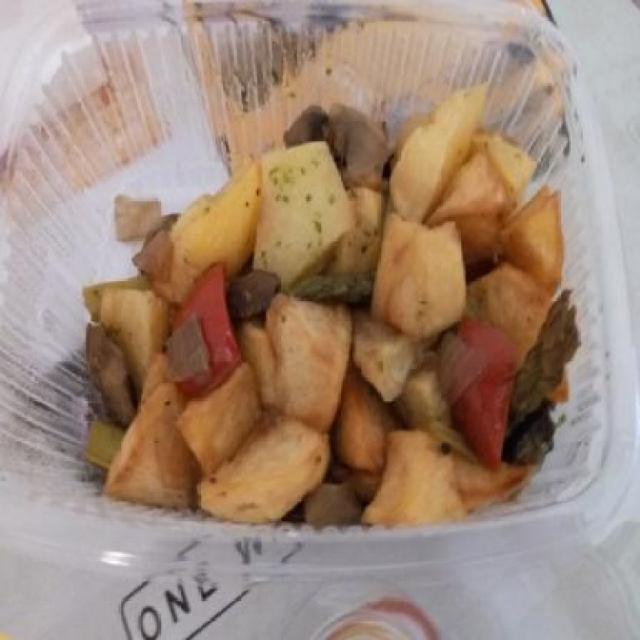Potato: (99, 81, 562, 517), (196, 409, 335, 517)
